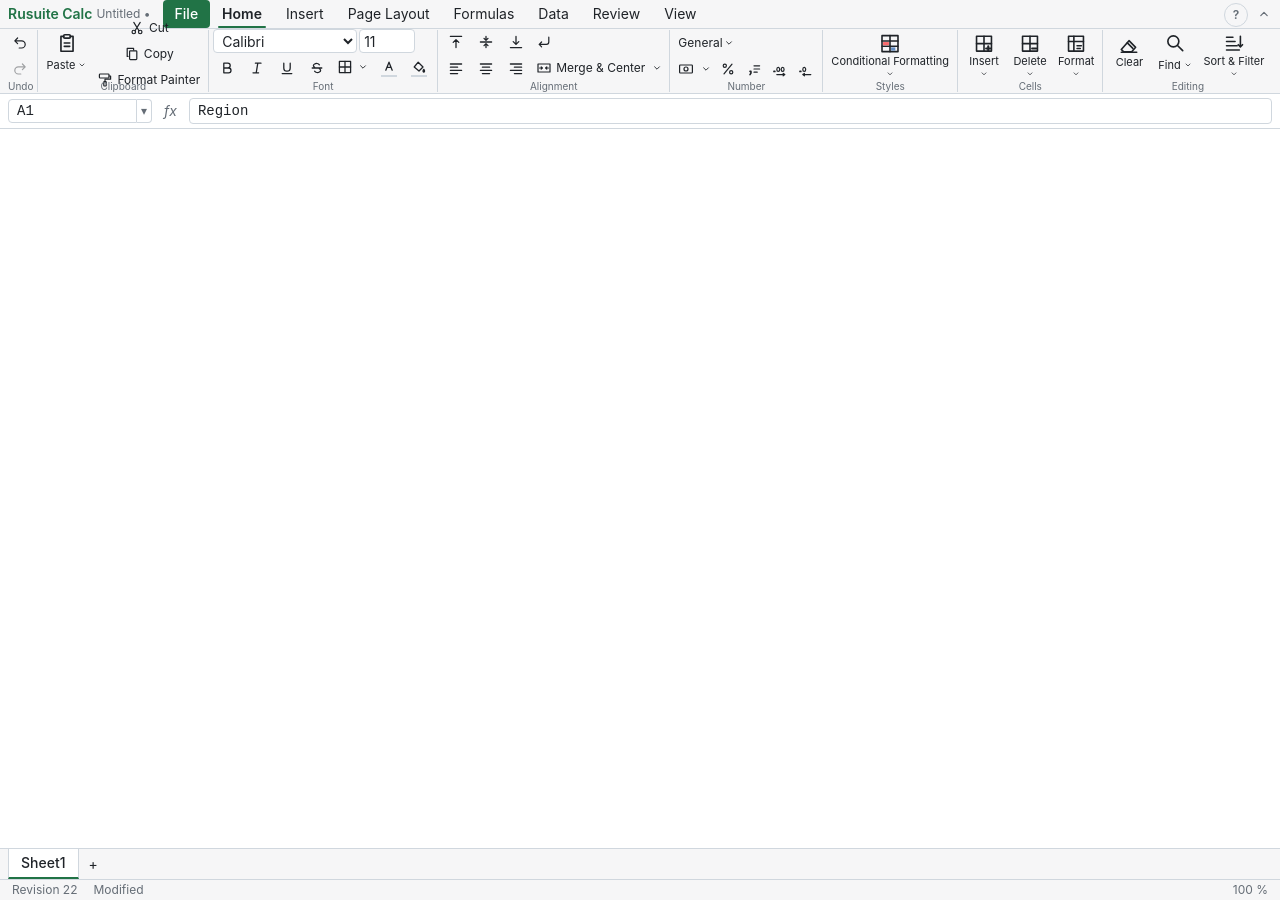
Test: Insert › PivotTable and the field pane › creates an empty table on a new sheet, opens the pane and PivotTable Analyze
expect the tab "Sheet1" is shown: met, box [8,849,78,879]
Click the tab "Insert": x=305, y=14 [274,0,336,28]
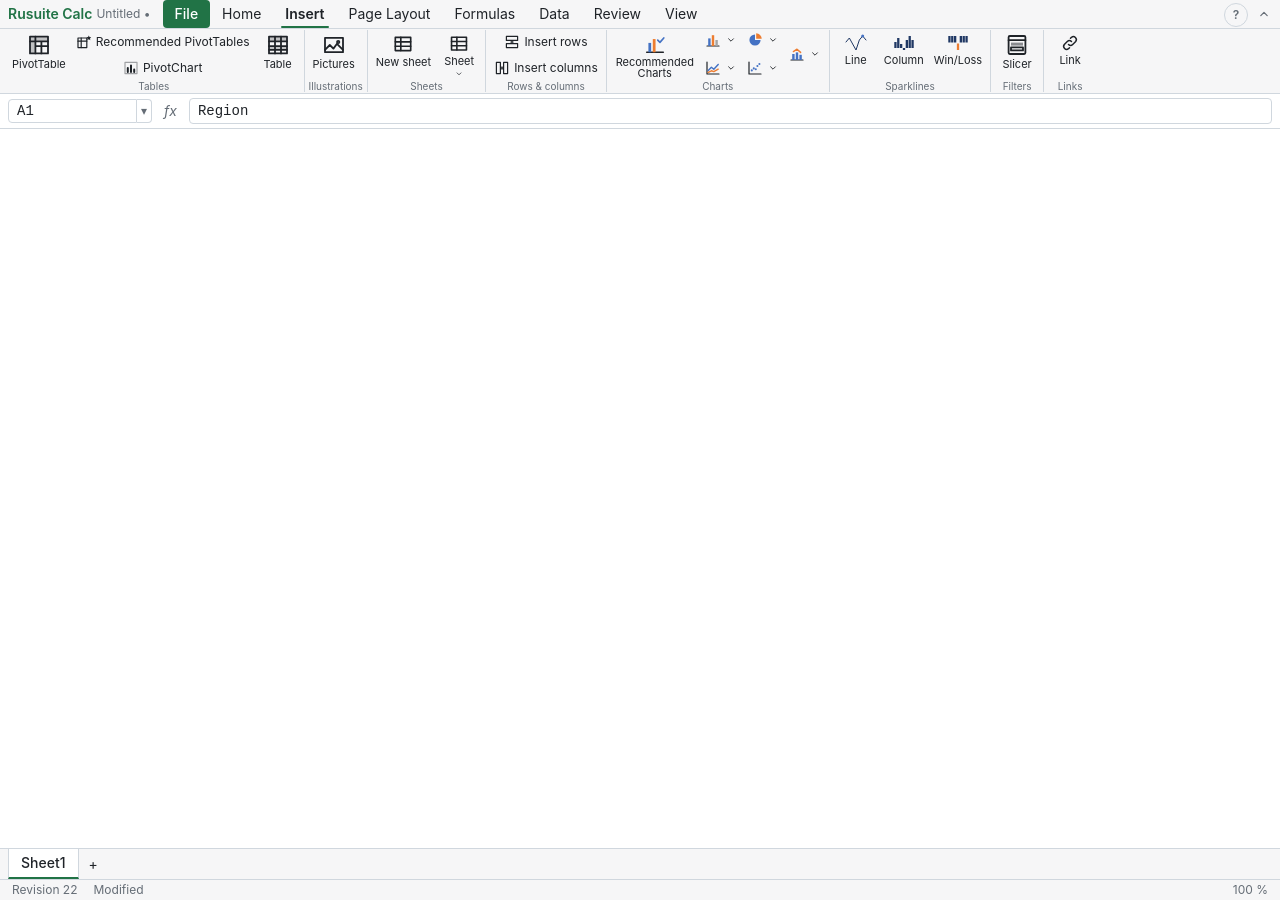
Click the button "PivotTable": x=39, y=55 [8,31,70,79]
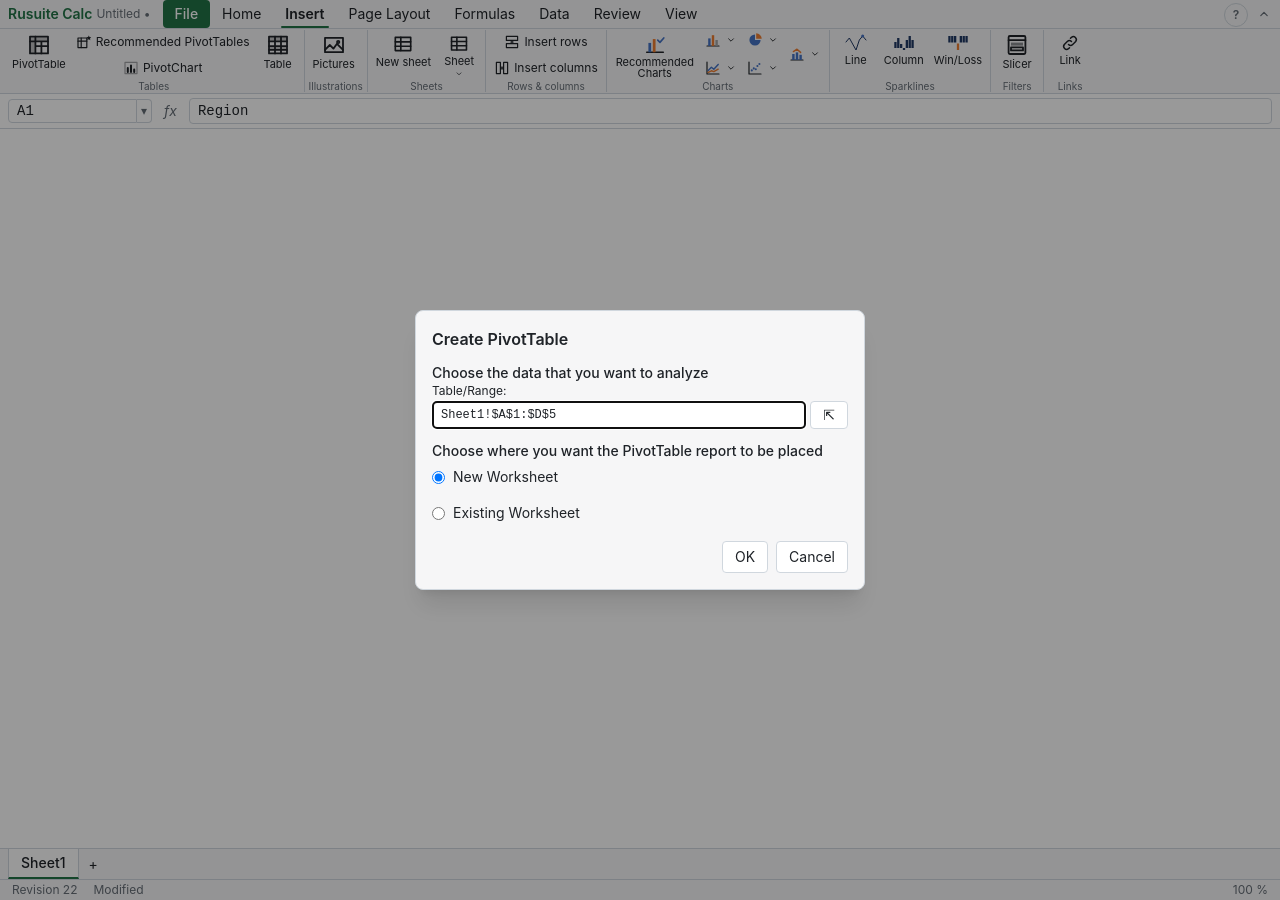
expect the field with test id "pivot-source" holds "Sheet1!$A$1:$D$5": met, box [432,401,806,429]
Click the button "OK": x=745, y=557 [722,541,768,573]
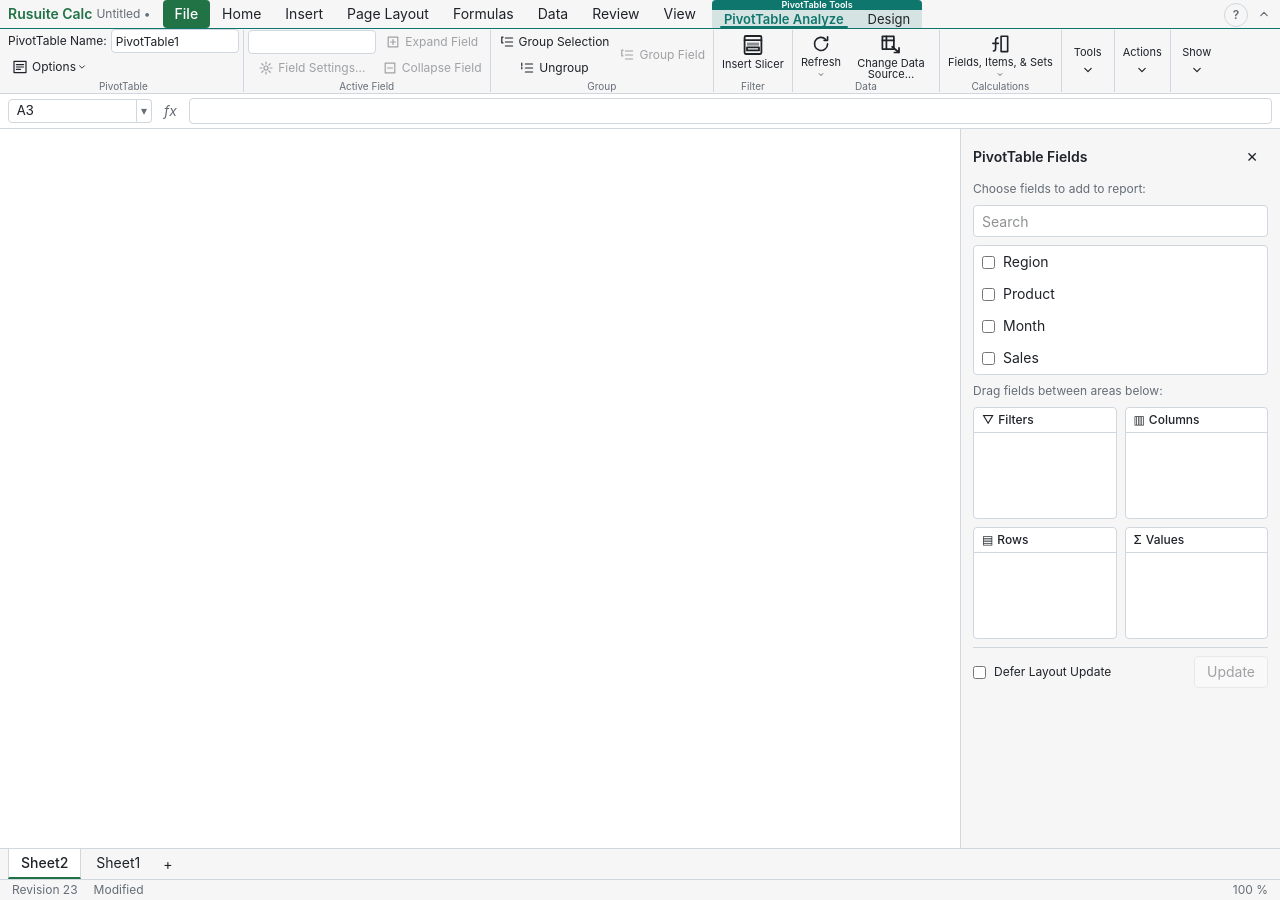
expect the checkbox named "Region" is shown: met, box [982,256,995,268]
expect the tab "Design" is shown: met, box [856,0,922,28]
